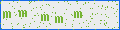m: (2, 11, 12, 19), (18, 10, 28, 17), (54, 16, 64, 23), (73, 11, 83, 18), (41, 14, 49, 21)
